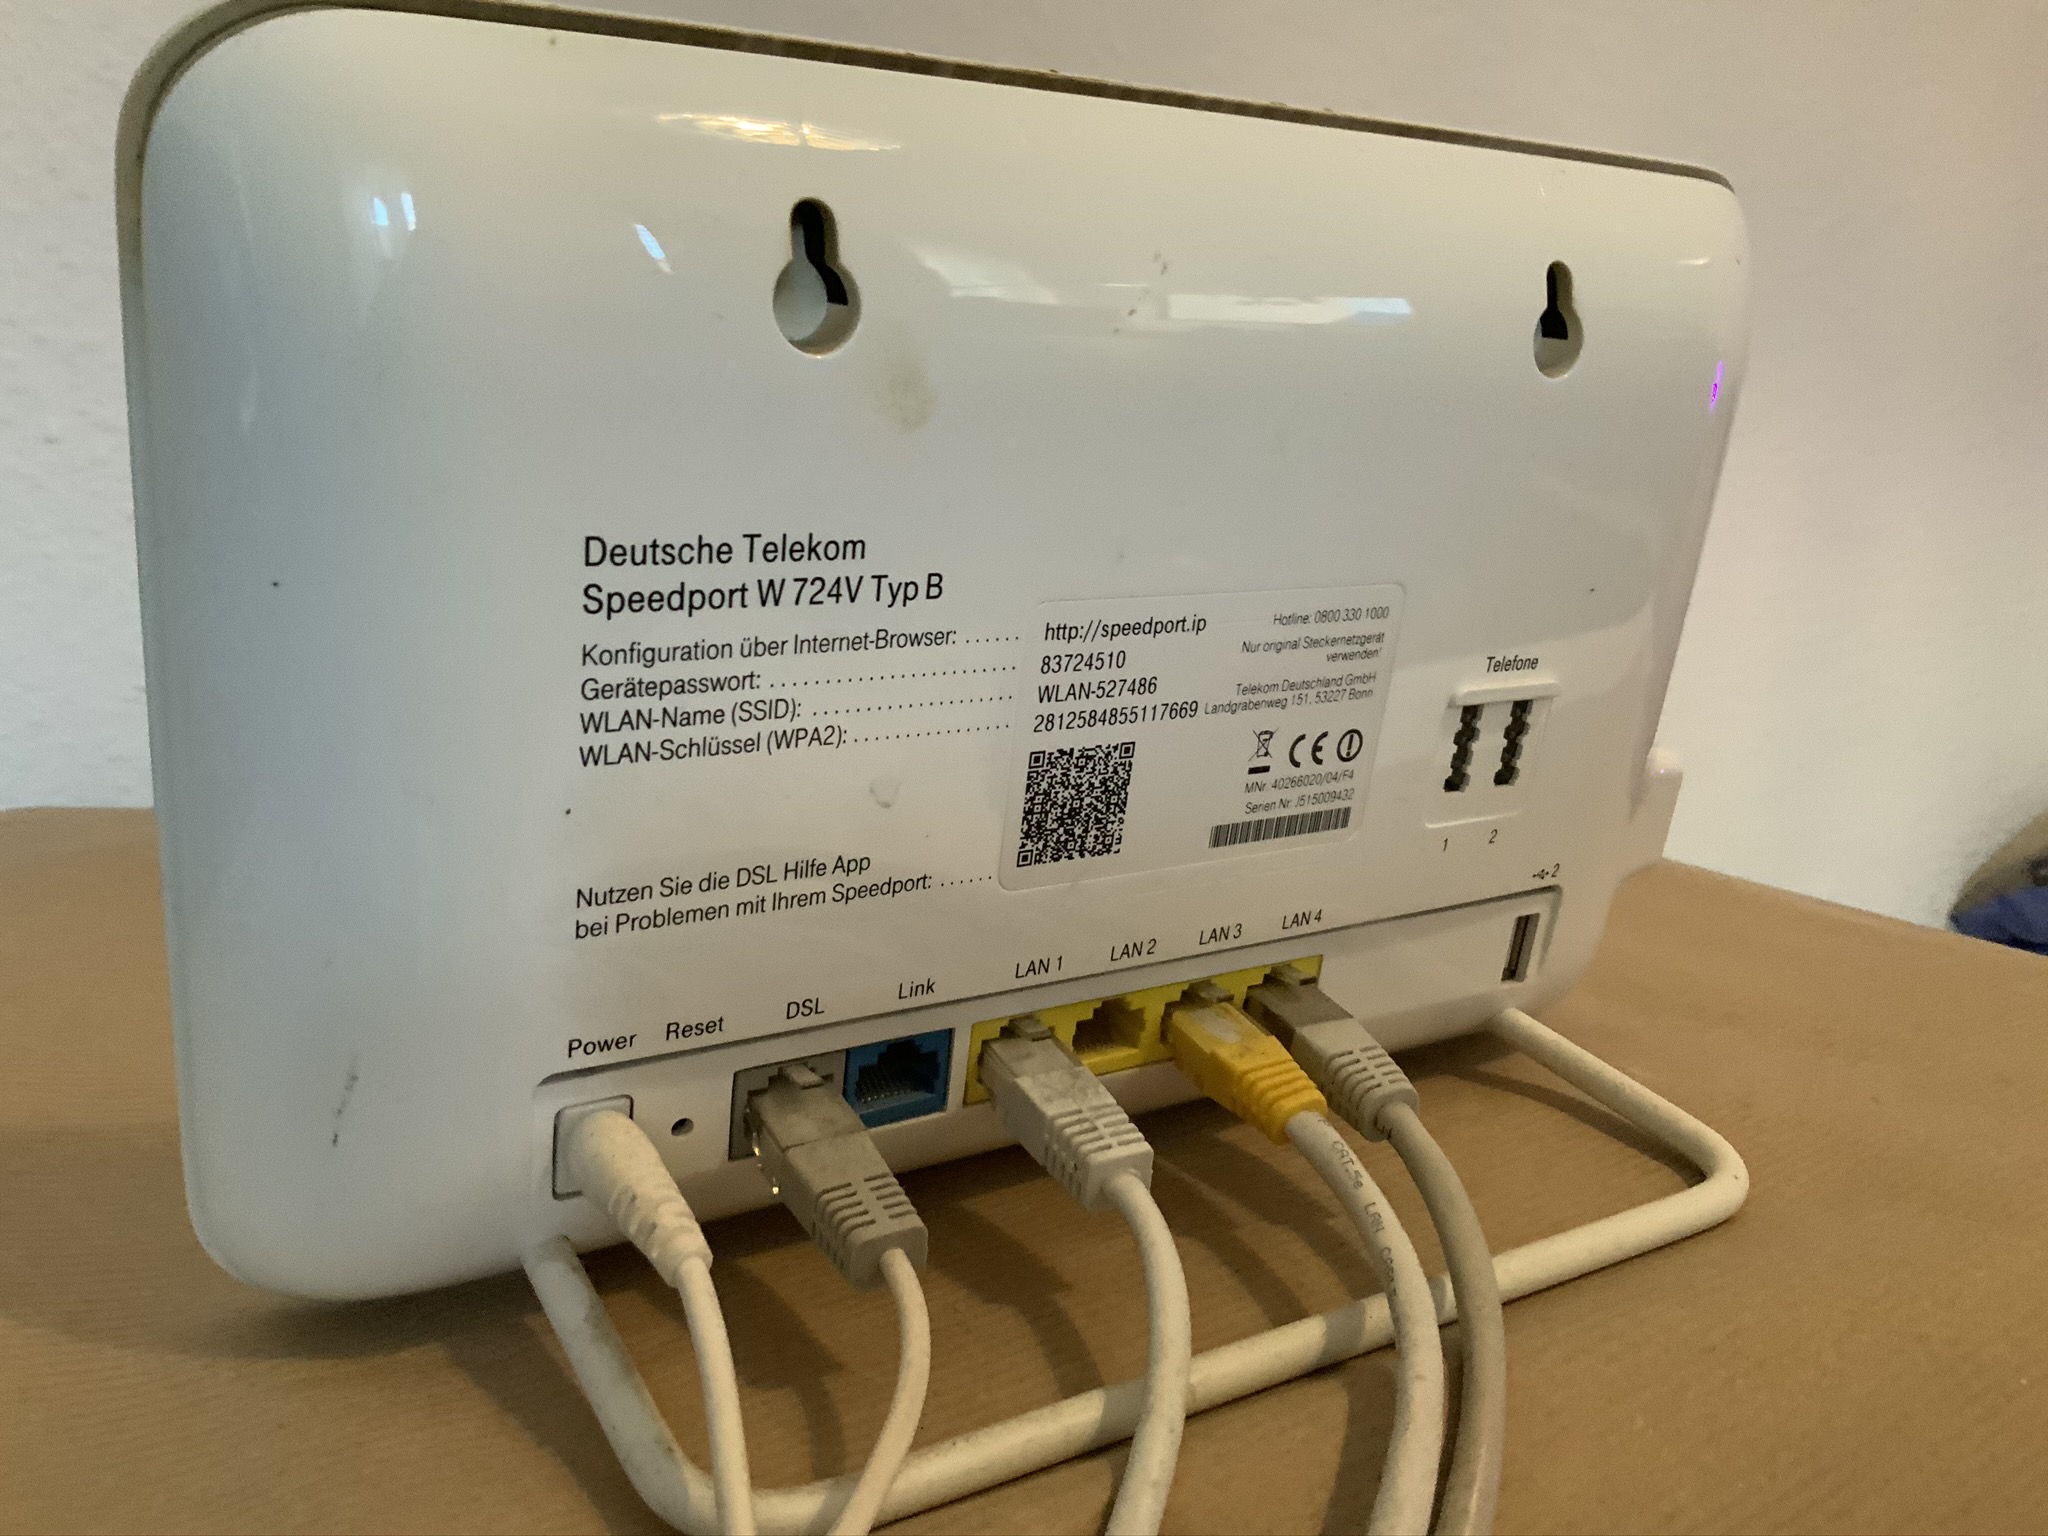router: (116, 2, 1763, 1321)
